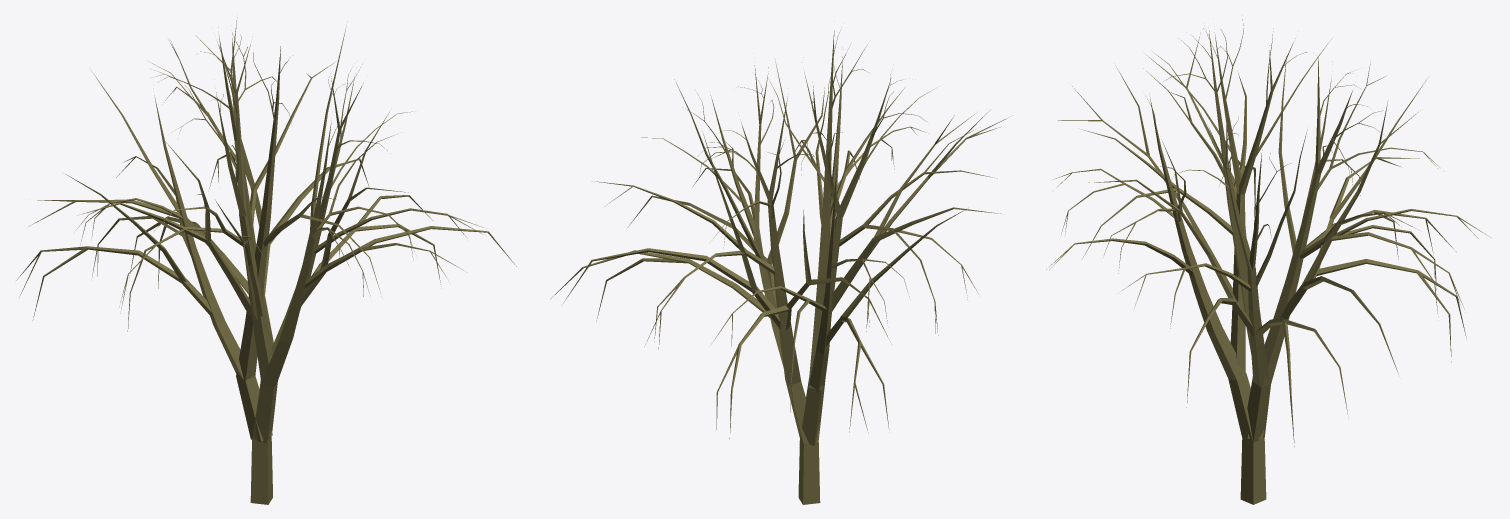
Rendered from arvore1.fbx.
3 renders of one model, left to right at view 1: azimuth 30°, elevation 25°; view 2: azimuth 150°, elevation 25°; view 3: azimuth 270°, elevation 25°, orthographic. The views are drawn at different scales.
Parts seen in each view (by area): view 1: tree.001; view 2: tree.001; view 3: tree.001.
Boxes of the visible parts, x1,y1,x2,y2 form: tree.001: [16, 17, 516, 504]; tree.001: [550, 30, 1012, 504]; tree.001: [1046, 19, 1490, 504].
Bounding box in the file's own units: 718 × 798 × 675.
